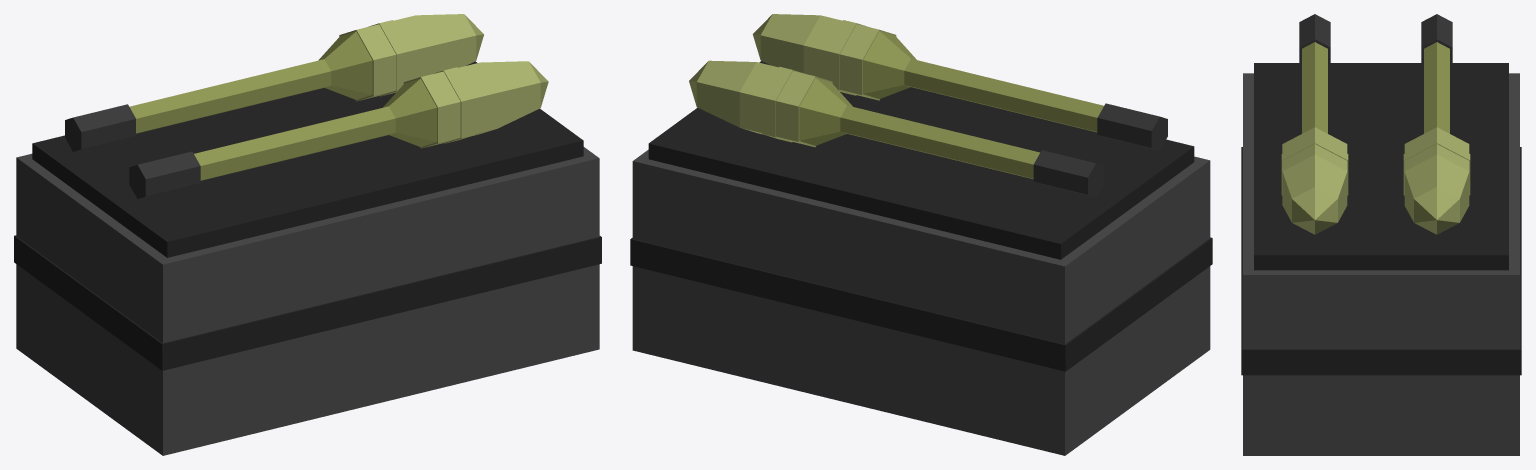
Rendered from ce_ammo2_rpg_heat_c.obj.
The picture shows the model from 3 angles, left to right: view 1: azimuth 30°, elevation 25°; view 2: azimuth 150°, elevation 25°; view 3: azimuth 270°, elevation 25°; orthographic projection. The views are drawn at different scales.
Visible parts, largest first — view 1: ce_ammo2_rpg_heat_c_0, ce_ammo2_rpg_heat_c_1, ce_ammo2_rpg_heat_c_2, ce_ammo2_rpg_heat_c_4, ce_ammo2_rpg_heat_c_12, ce_ammo2_rpg_heat_c_17, ce_ammo2_rpg_heat_c_13, ce_ammo2_rpg_heat_c_9, ce_ammo2_rpg_heat_c_5, ce_ammo2_rpg_heat_c_11, ce_ammo2_rpg_heat_c_3, ce_ammo2_rpg_heat_c_6 (+5 smaller); view 2: ce_ammo2_rpg_heat_c_0, ce_ammo2_rpg_heat_c_1, ce_ammo2_rpg_heat_c_2, ce_ammo2_rpg_heat_c_12, ce_ammo2_rpg_heat_c_4, ce_ammo2_rpg_heat_c_9, ce_ammo2_rpg_heat_c_17, ce_ammo2_rpg_heat_c_5, ce_ammo2_rpg_heat_c_13, ce_ammo2_rpg_heat_c_3, ce_ammo2_rpg_heat_c_11, ce_ammo2_rpg_heat_c_14 (+5 smaller); view 3: ce_ammo2_rpg_heat_c_0, ce_ammo2_rpg_heat_c_1, ce_ammo2_rpg_heat_c_2, ce_ammo2_rpg_heat_c_9, ce_ammo2_rpg_heat_c_17, ce_ammo2_rpg_heat_c_4, ce_ammo2_rpg_heat_c_12, ce_ammo2_rpg_heat_c_10, ce_ammo2_rpg_heat_c_18, ce_ammo2_rpg_heat_c_3, ce_ammo2_rpg_heat_c_11, ce_ammo2_rpg_heat_c_16 (+5 smaller).
Part boxes in pixels (x1,y1,x2,y2): ce_ammo2_rpg_heat_c_0: (16, 147, 599, 455); ce_ammo2_rpg_heat_c_1: (32, 61, 583, 257); ce_ammo2_rpg_heat_c_2: (14, 235, 601, 370); ce_ammo2_rpg_heat_c_4: (129, 59, 331, 133); ce_ammo2_rpg_heat_c_12: (194, 106, 395, 180); ce_ammo2_rpg_heat_c_17: (480, 61, 540, 128); ce_ammo2_rpg_heat_c_13: (383, 78, 437, 146); ce_ammo2_rpg_heat_c_9: (416, 14, 476, 73); ce_ammo2_rpg_heat_c_5: (318, 31, 372, 99); ce_ammo2_rpg_heat_c_11: (129, 151, 200, 198); ce_ammo2_rpg_heat_c_3: (65, 104, 135, 151); ce_ammo2_rpg_heat_c_6: (339, 24, 396, 101); ce_ammo2_rpg_heat_c_0: (632, 149, 1210, 455); ce_ammo2_rpg_heat_c_1: (648, 61, 1194, 259); ce_ammo2_rpg_heat_c_2: (630, 237, 1212, 371); ce_ammo2_rpg_heat_c_12: (904, 58, 1103, 132); ce_ammo2_rpg_heat_c_4: (840, 105, 1039, 179); ce_ammo2_rpg_heat_c_9: (696, 60, 756, 127); ce_ammo2_rpg_heat_c_17: (760, 14, 820, 72); ce_ammo2_rpg_heat_c_5: (799, 78, 852, 145); ce_ammo2_rpg_heat_c_13: (863, 31, 916, 99); ce_ammo2_rpg_heat_c_3: (1033, 150, 1104, 197); ce_ammo2_rpg_heat_c_11: (1097, 103, 1167, 150); ce_ammo2_rpg_heat_c_14: (839, 24, 896, 100); ce_ammo2_rpg_heat_c_0: (1243, 73, 1519, 455); ce_ammo2_rpg_heat_c_1: (1254, 63, 1508, 270); ce_ammo2_rpg_heat_c_2: (1241, 147, 1521, 375); ce_ammo2_rpg_heat_c_9: (1404, 154, 1469, 222); ce_ammo2_rpg_heat_c_17: (1282, 154, 1347, 222); ce_ammo2_rpg_heat_c_4: (1424, 42, 1449, 133); ce_ammo2_rpg_heat_c_12: (1302, 42, 1327, 133); ce_ammo2_rpg_heat_c_10: (1414, 187, 1459, 234); ce_ammo2_rpg_heat_c_18: (1292, 187, 1337, 234); ce_ammo2_rpg_heat_c_3: (1421, 14, 1452, 64); ce_ammo2_rpg_heat_c_11: (1299, 14, 1330, 64); ce_ammo2_rpg_heat_c_16: (1282, 144, 1347, 171).
Size of the model in its own units: 0.866 by 0.5268 by 0.506.
